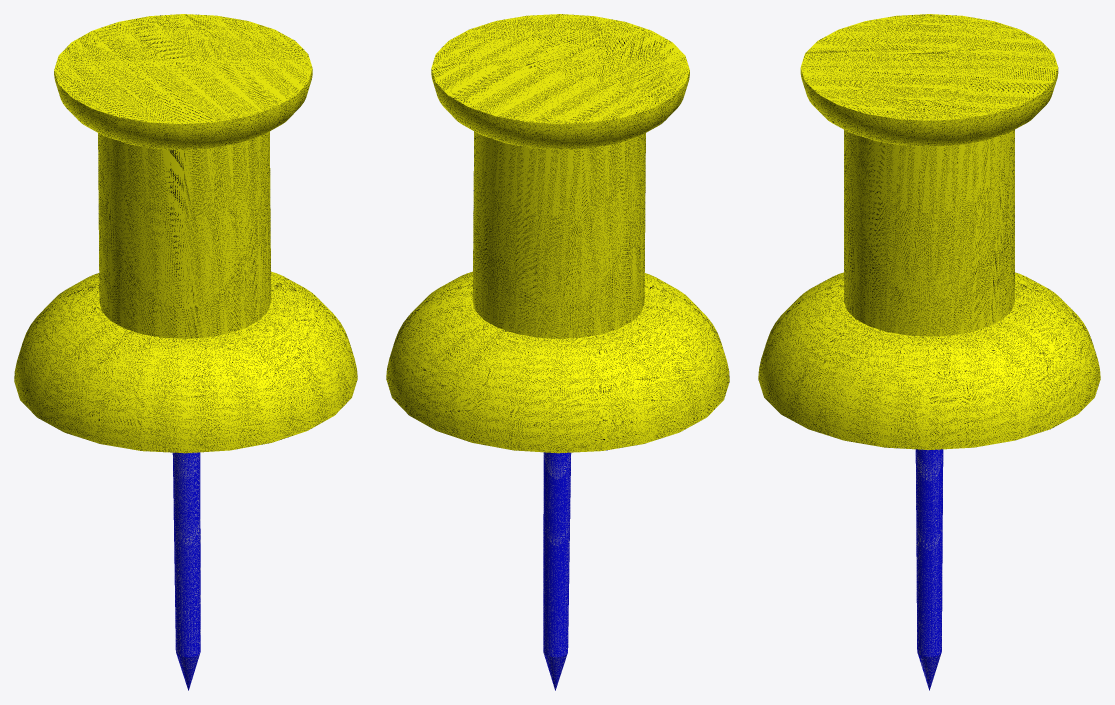
The model's file is pushPinBlack.dae.
The picture shows the model from 3 angles, left to right: view 1: azimuth 30°, elevation 25°; view 2: azimuth 150°, elevation 25°; view 3: azimuth 270°, elevation 25°; orthographic projection.
Parts seen in each view (by area): view 1: SketchUp (×2); view 2: SketchUp (×2); view 3: SketchUp (×2).
Part boxes in pixels (x1=…): SketchUp (×2): x1=14, y1=14, x2=357, y2=690; SketchUp (×2): x1=386, y1=14, x2=729, y2=690; SketchUp (×2): x1=758, y1=14, x2=1100, y2=690.
Bounding box in the file's own units: 24 × 24 × 48.09.
